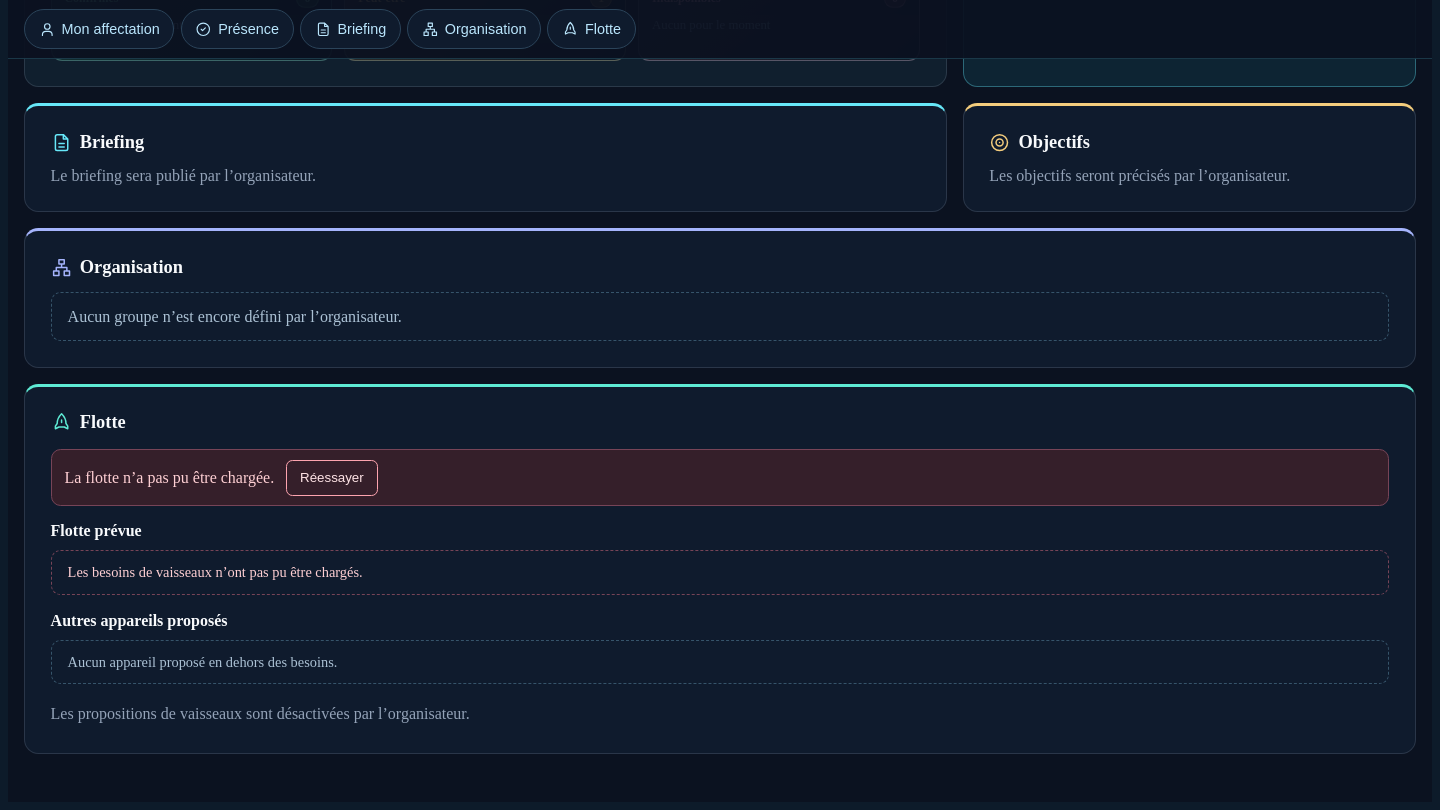
Test: OperationPageComponent › never states that no ship is needed when the needs could not be read, even if the ships were
The image size is (1440, 810).
(page scrolled)
Check: the element that starts with "Flotte" shows "La flotte n’a pas pu être chargée.", box x1=64 y1=468 x2=278 y2=485
Check: the element that starts with "Flotte" shows "Les besoins de vaisseaux n’ont pas pu être chargés.", box x1=68 y1=564 x2=363 y2=580
Click the button "Réessayer". click: (332, 478)
box: x1=286 y1=460 x2=378 y2=496
(page scrolled)
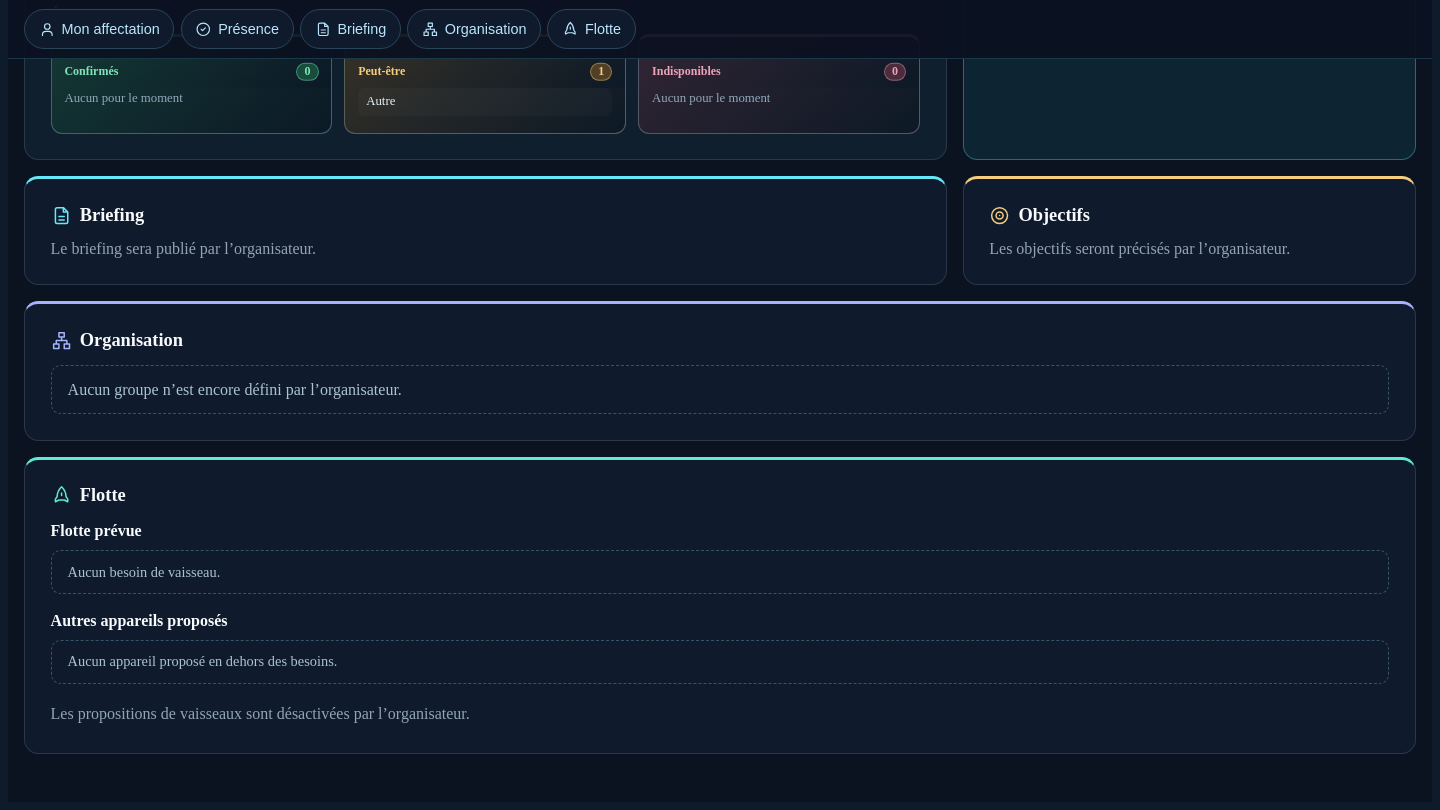
Check: the message "La flotte n’a pas pu être chargée. Réessayer" no longer shows "n’a pas pu être chargée"
Check: the element that starts with "Flotte" shows "Aucun besoin de vaisseau", box x1=68 y1=564 x2=220 y2=580
